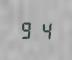four: (35, 19, 50, 40)
nine: (19, 19, 34, 39)
